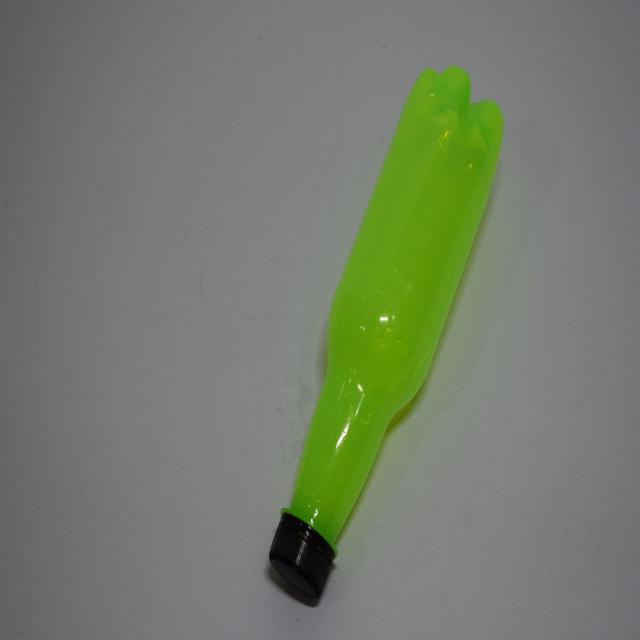bottle: (267, 61, 504, 608)
